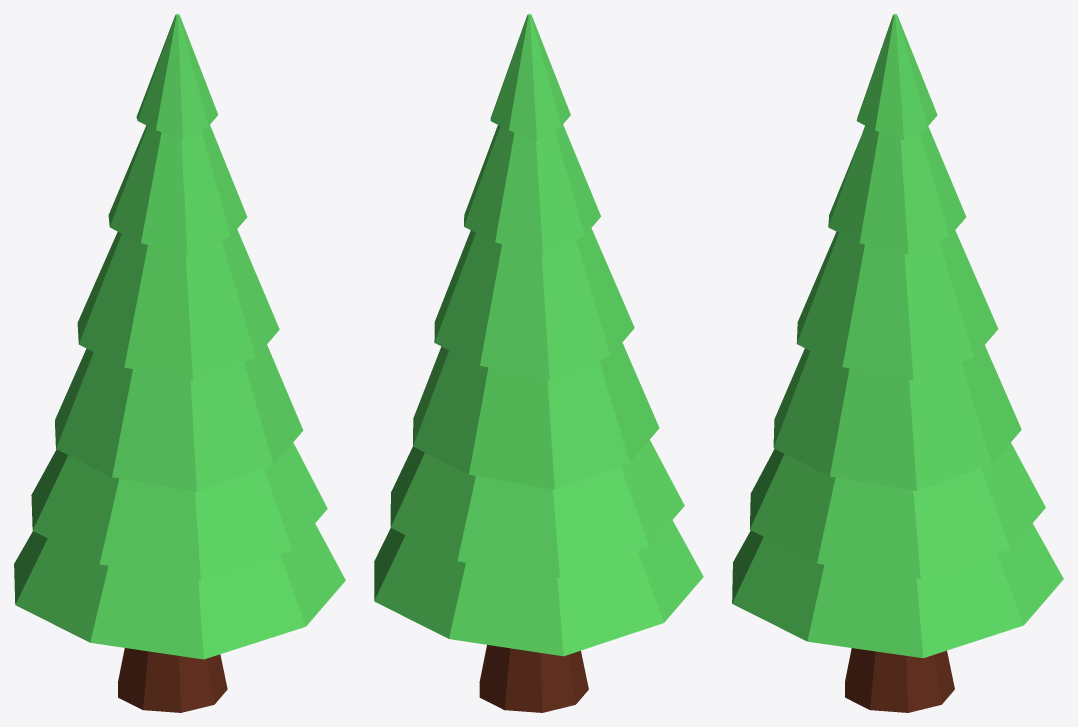
The model's file is lowpolytree.fbx.
3 views of the same model, side by side, from view 1: azimuth 30°, elevation 25°; view 2: azimuth 150°, elevation 25°; view 3: azimuth 270°, elevation 25° (orthographic).
Visible parts, largest first — view 1: Cylinder; view 2: Cylinder; view 3: Cylinder.
Part boxes in pixels (x1,y1,x2,y2): Cylinder: [14, 14, 345, 712]; Cylinder: [374, 14, 703, 712]; Cylinder: [732, 14, 1063, 712].
Bounding box in the file's own units: 145 × 323 × 143.
